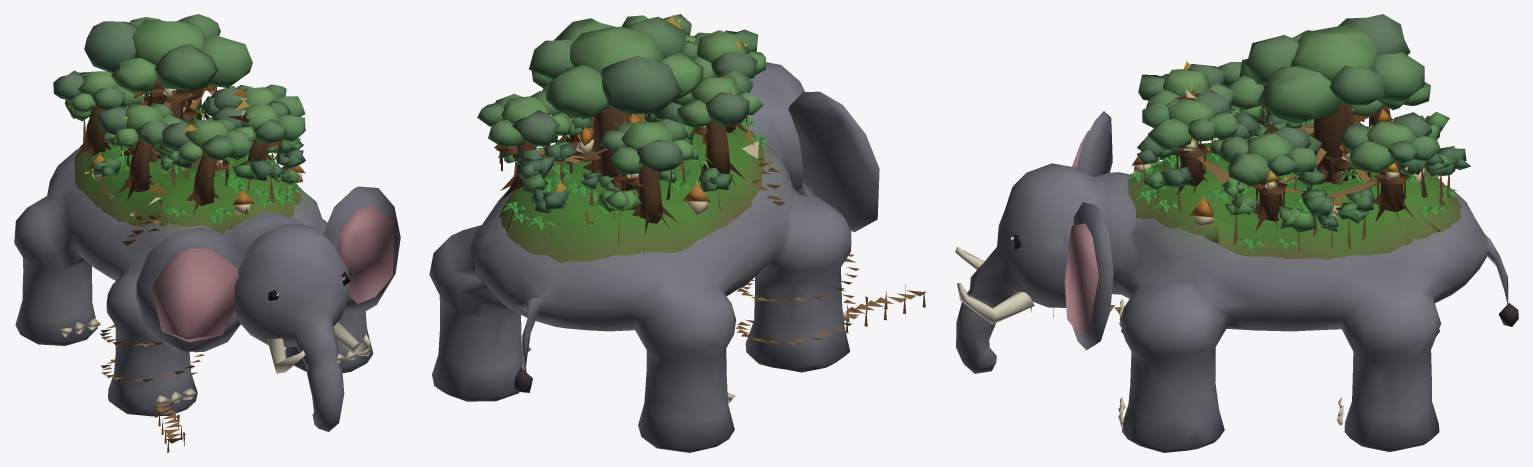
The picture shows the model from 3 angles, left to right: view 1: azimuth 30°, elevation 25°; view 2: azimuth 150°, elevation 25°; view 3: azimuth 270°, elevation 25°; orthographic projection. The views are drawn at different scales.
Visible parts, largest first — view 1: BASE; view 2: BASE; view 3: BASE.
Part boxes in pixels (<box>): BASE: <box>14,14,400,452</box>; BASE: <box>429,14,925,452</box>; BASE: <box>955,14,1518,452</box>.
Bounding box in the file's own units: 47.25 × 51.66 × 75.07.
